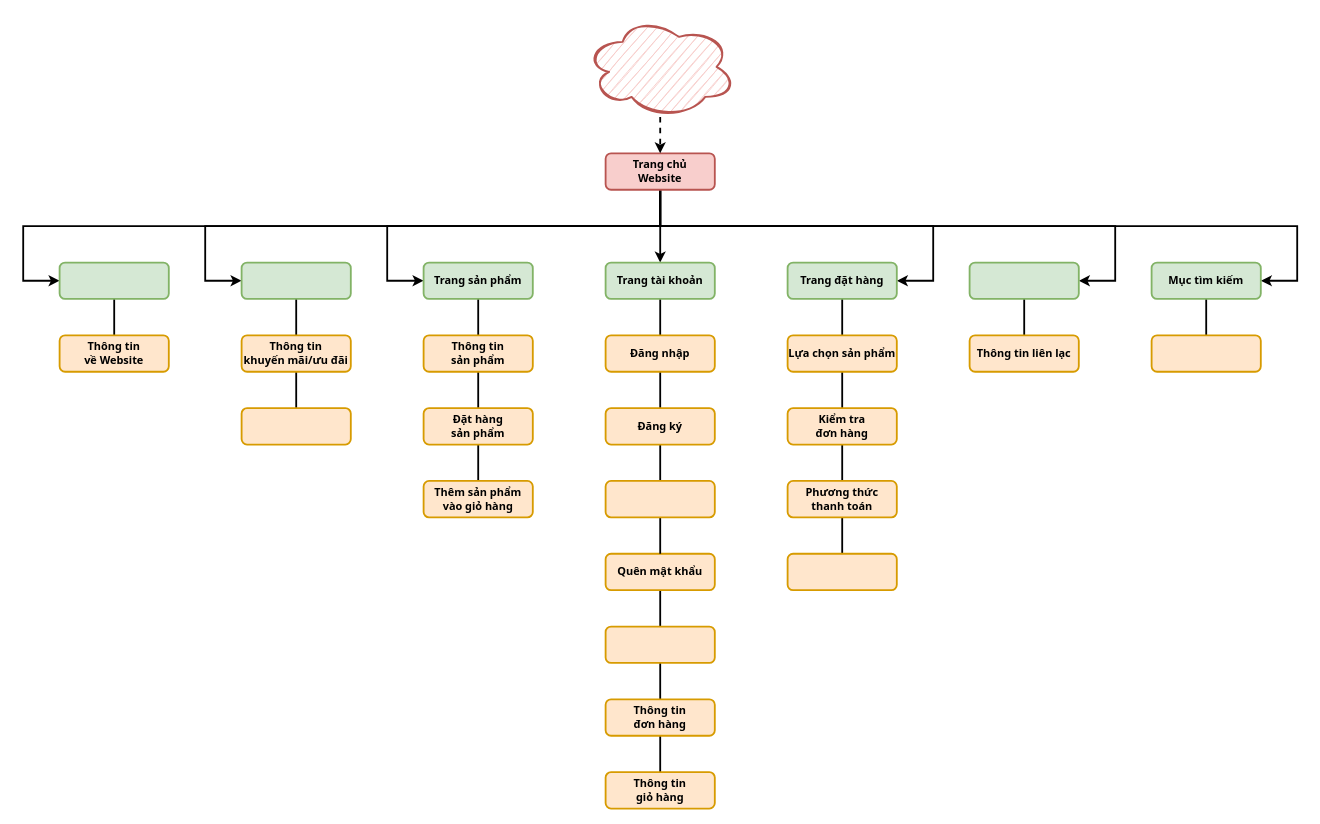
The diagram is 1320 pixels wide and 824 high, and some of its shapes have lost their labels. Here are the shapes that lost their labels. From the top down, the box of each, then its label:
(584, 15, 736, 117): WEBSITE COFFEE
(58, 261, 169, 299): Trang giới thiệu
(240, 261, 351, 299): Trang tin tức
(968, 261, 1079, 299): Trang liên hệ
(1150, 334, 1261, 372): Tìm kiếm sản phẩm
(240, 407, 351, 445): Thông tin tuyển dụng
(604, 480, 715, 518): Đăng xuất
(786, 552, 897, 591): Xác nhận đặt hàng
(604, 625, 715, 663): Thông tin cá nhân
